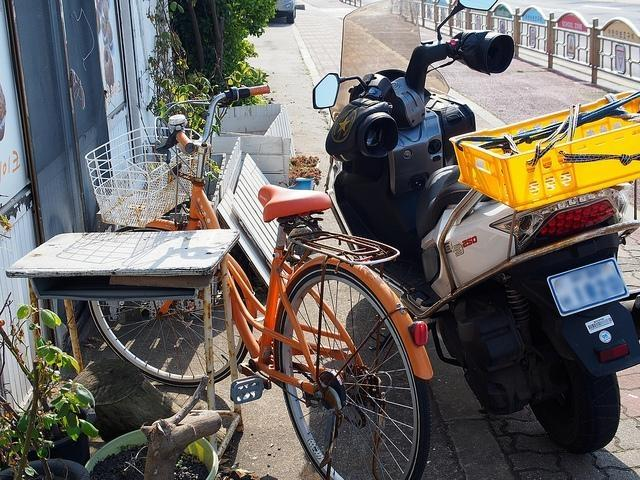bicycle: (90, 80, 433, 462)
car: (266, 0, 296, 24)
motorcycle: (310, 2, 640, 452)
